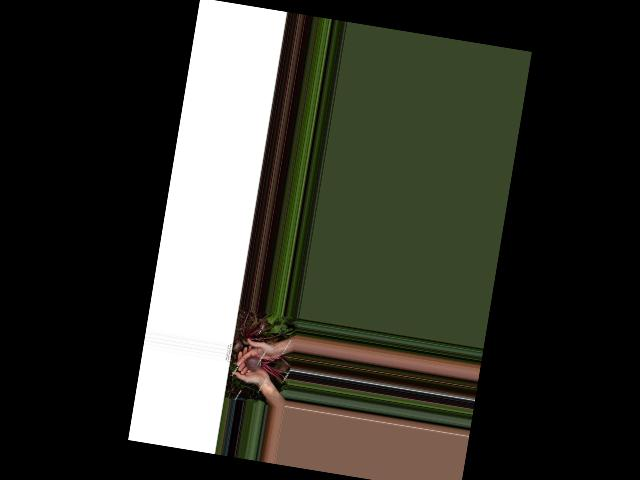beet: (241, 350, 291, 385)
